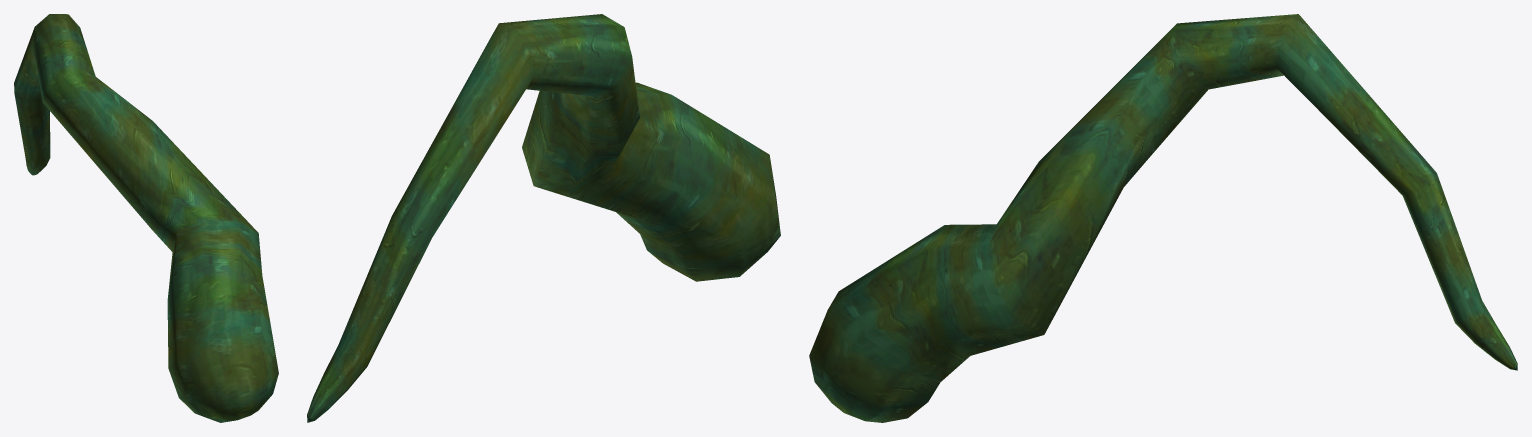
File: MIRKWOOD_SB_PLAY09.fbx
The picture shows the model from 3 angles, left to right: view 1: azimuth 30°, elevation 25°; view 2: azimuth 150°, elevation 25°; view 3: azimuth 270°, elevation 25°; orthographic projection. The views are drawn at different scales.
Visible parts, largest first — view 1: MIRKWOOD_SB_PLAY09; view 2: MIRKWOOD_SB_PLAY09; view 3: MIRKWOOD_SB_PLAY09.
Boxes of the visible parts, x1=… form: MIRKWOOD_SB_PLAY09: x1=14, y1=14, x2=278, y2=422; MIRKWOOD_SB_PLAY09: x1=307, y1=14, x2=780, y2=422; MIRKWOOD_SB_PLAY09: x1=809, y1=14, x2=1517, y2=422.
Bounding box in the file's own units: 45150 × 88228 × 145019.
Materials: 1 (1 with a texture image).
